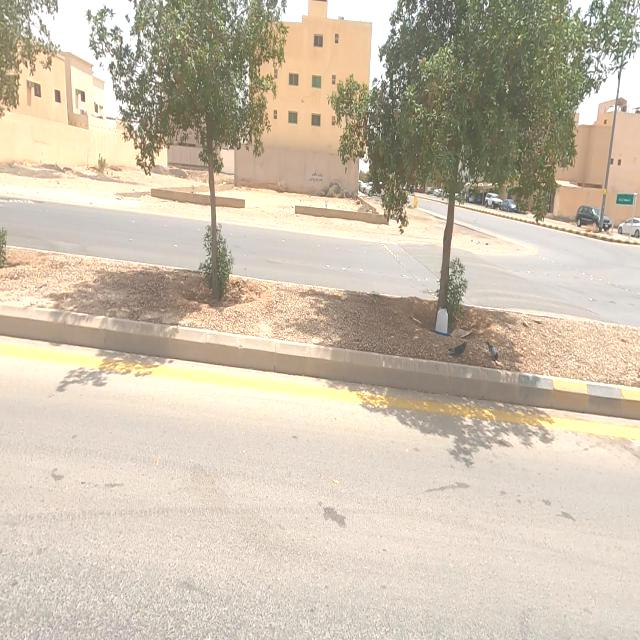debris: (412, 321, 548, 376), (418, 268, 469, 364)
